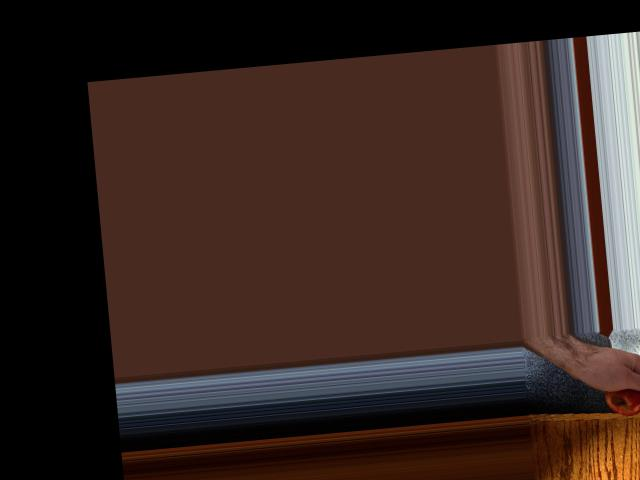apple: (600, 371, 640, 420)
